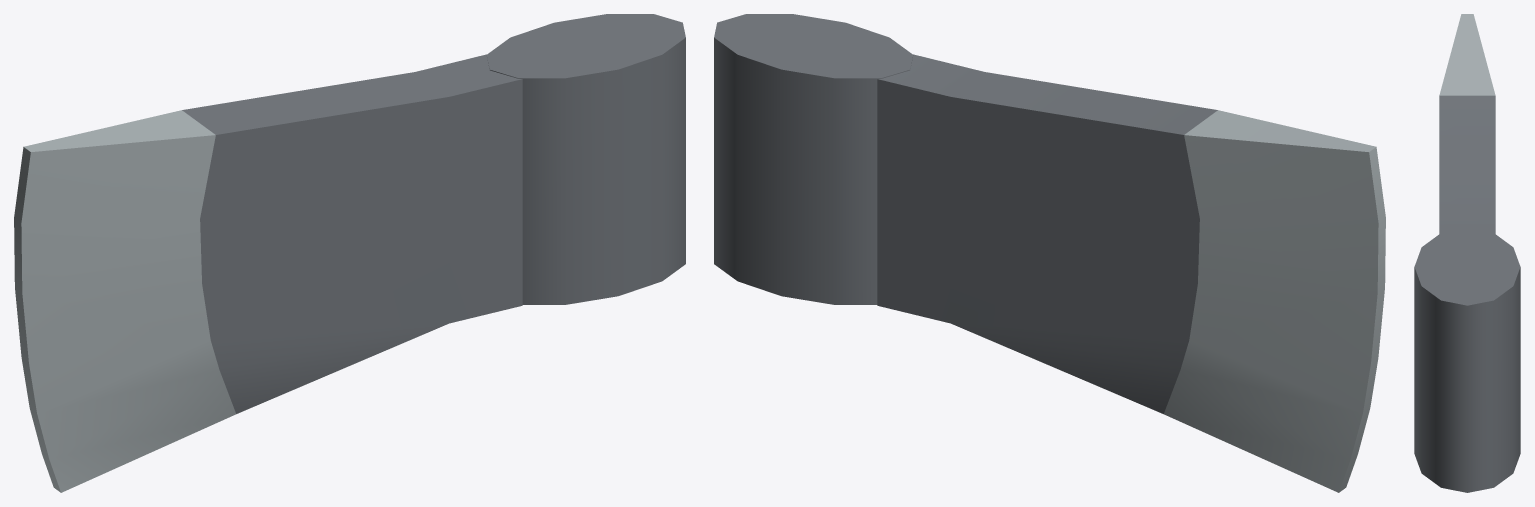
Rendered from LumberjackAxeBladeDefault.FBX.
The picture shows the model from 3 angles, left to right: view 1: azimuth 30°, elevation 25°; view 2: azimuth 150°, elevation 25°; view 3: azimuth 270°, elevation 25°; orthographic projection. The views are drawn at different scales.
Parts seen in each view (by area): view 1: LumberjackAxeBladeDefault; view 2: LumberjackAxeBladeDefault; view 3: LumberjackAxeBladeDefault.
Part boxes in pixels (x1,y1,x2,y2): LumberjackAxeBladeDefault: (14, 14, 685, 492); LumberjackAxeBladeDefault: (714, 14, 1385, 492); LumberjackAxeBladeDefault: (1414, 14, 1520, 492).
Size of the model in its own units: 38.82 by 19.42 by 6.49.
